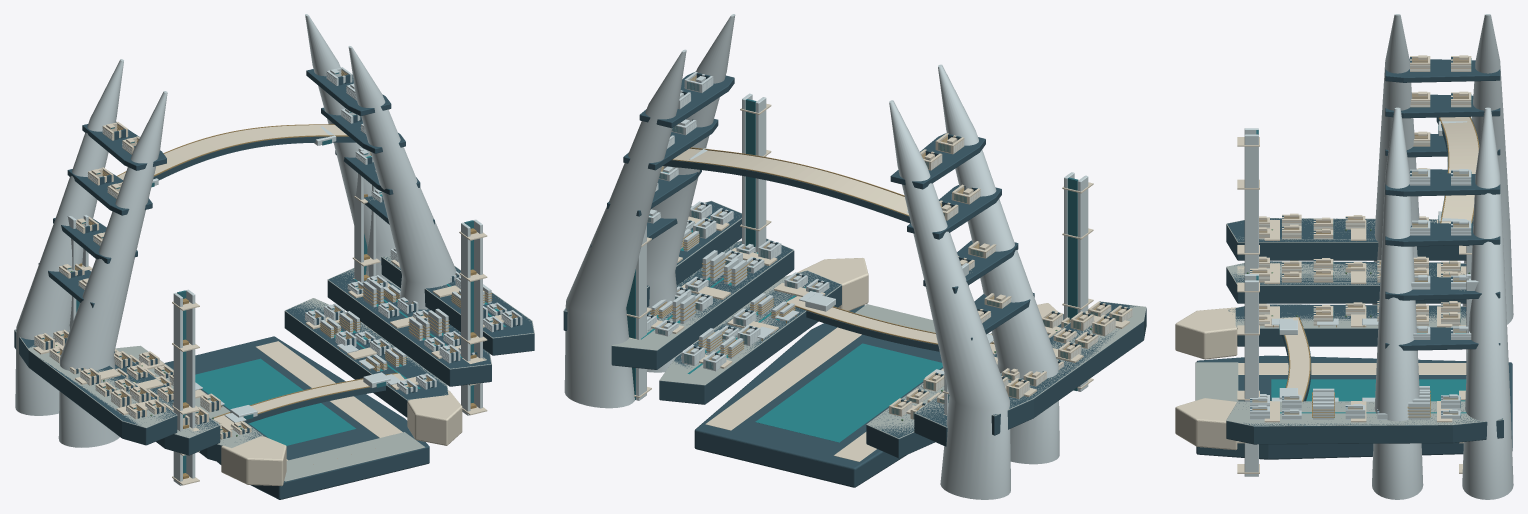
File: R15_CONCEPT.glb
The picture shows the model from 3 angles, left to right: view 1: azimuth 30°, elevation 25°; view 2: azimuth 150°, elevation 25°; view 3: azimuth 270°, elevation 25°; orthographic projection. The views are drawn at different scales.
Parts seen in each view (by area): view 1: WEST_GARDEN_inhabited_spine, WEST_GARDEN_inhabited_spine.001, EAST_WATER_inhabited_spine, LOWER_CIVIC_GROUND, Central_basin, EAST_WATER_T1_inhabited_landform, EAST_WATER_T0_inhabited_landform, WEST_GARDEN_T2_inhabited_landform, EAST_WATER_inhabited_spine.001, EAST_WATER_T2_inhabited_landform, Southern_civic_forecourt, WEST_GARDEN_PUBLIC_PROW (+22 smaller); view 2: WEST_GARDEN_inhabited_spine.001, EAST_WATER_inhabited_spine.001, WEST_GARDEN_inhabited_spine, LOWER_CIVIC_GROUND, Central_basin, EAST_WATER_inhabited_spine, EAST_WATER_T1_inhabited_landform, EAST_WATER_T0_inhabited_landform, WEST_GARDEN_T2_inhabited_landform, Lower_public_promenade.001, UPPER_CIVIC_VESSEL_public_street, EAST_WATER_T0_walkable_ground (+23 smaller); view 3: EAST_WATER_inhabited_spine.001, EAST_WATER_inhabited_spine, EAST_WATER_T2_inhabited_landform, LOWER_CIVIC_GROUND, WEST_GARDEN_T2_inhabited_landform, WEST_GARDEN_T1_inhabited_landform, WEST_GARDEN_inhabited_spine.001, WEST_GARDEN_inhabited_spine, WEST_GARDEN_T0_inhabited_landform, WEST_GARDEN_PUBLIC_PROW, EAST_WATER_T2_walkable_ground, EAST_WATER_PUBLIC_PROW (+18 smaller).
Boxes of the visible parts, box(x1,y1,x2,y2) form: WEST_GARDEN_inhabited_spine: box(58, 91, 167, 447); WEST_GARDEN_inhabited_spine.001: box(15, 59, 123, 415); EAST_WATER_inhabited_spine: box(348, 46, 455, 309); LOWER_CIVIC_GROUND: box(164, 336, 429, 499); Central_basin: box(195, 358, 355, 445); EAST_WATER_T1_inhabited_landform: box(327, 268, 491, 386); EAST_WATER_T0_inhabited_landform: box(284, 300, 448, 417); WEST_GARDEN_T2_inhabited_landform: box(14, 329, 177, 445); EAST_WATER_inhabited_spine.001: box(305, 14, 400, 328); EAST_WATER_T2_inhabited_landform: box(381, 256, 534, 355); Southern_civic_forecourt: box(284, 432, 425, 481); WEST_GARDEN_PUBLIC_PROW: box(221, 436, 286, 486); WEST_GARDEN_inhabited_spine.001: box(889, 100, 1010, 499); EAST_WATER_inhabited_spine.001: box(564, 49, 686, 408); WEST_GARDEN_inhabited_spine: box(938, 64, 1059, 464); LOWER_CIVIC_GROUND: box(694, 305, 943, 487); Central_basin: box(755, 343, 942, 442); EAST_WATER_inhabited_spine: box(647, 14, 735, 372); EAST_WATER_T1_inhabited_landform: box(611, 239, 794, 369); EAST_WATER_T0_inhabited_landform: box(659, 271, 841, 404); WEST_GARDEN_T2_inhabited_landform: box(991, 301, 1146, 435); Lower_public_promenade.001: box(705, 327, 861, 430); UPPER_CIVIC_VESSEL_public_street: box(673, 148, 908, 214); EAST_WATER_T0_walkable_ground: box(659, 270, 841, 385); EAST_WATER_inhabited_spine.001: box(1462, 107, 1513, 499); EAST_WATER_inhabited_spine: box(1372, 107, 1423, 499); EAST_WATER_T2_inhabited_landform: box(1226, 402, 1503, 444); LOWER_CIVIC_GROUND: box(1196, 355, 1512, 459); WEST_GARDEN_T2_inhabited_landform: box(1226, 218, 1466, 260); WEST_GARDEN_T1_inhabited_landform: box(1226, 261, 1466, 303); WEST_GARDEN_inhabited_spine.001: box(1462, 14, 1513, 324); WEST_GARDEN_inhabited_spine: box(1372, 14, 1419, 304); WEST_GARDEN_T0_inhabited_landform: box(1228, 304, 1466, 346); WEST_GARDEN_PUBLIC_PROW: box(1175, 307, 1237, 359); EAST_WATER_T2_walkable_ground: box(1226, 402, 1503, 426); EAST_WATER_PUBLIC_PROW: box(1175, 398, 1237, 450).
Bounding box in the file's own units: 2400 × 1910 × 1647.
